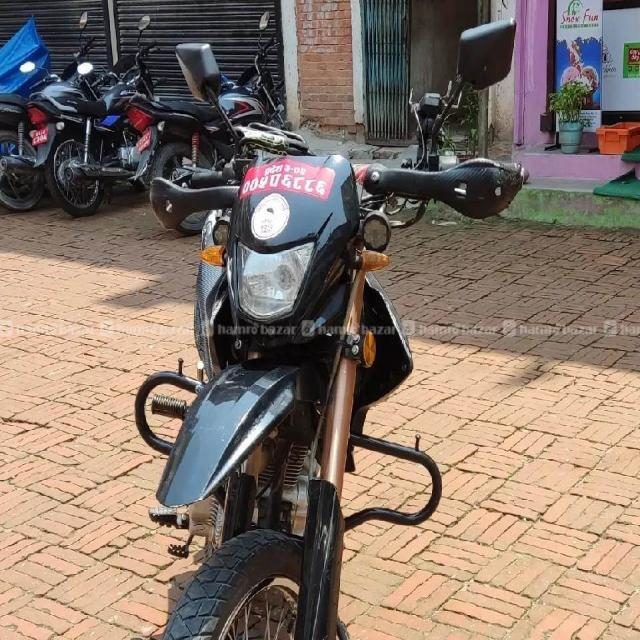License-plate: (238, 162, 334, 200), (132, 132, 156, 152), (32, 124, 51, 144)
